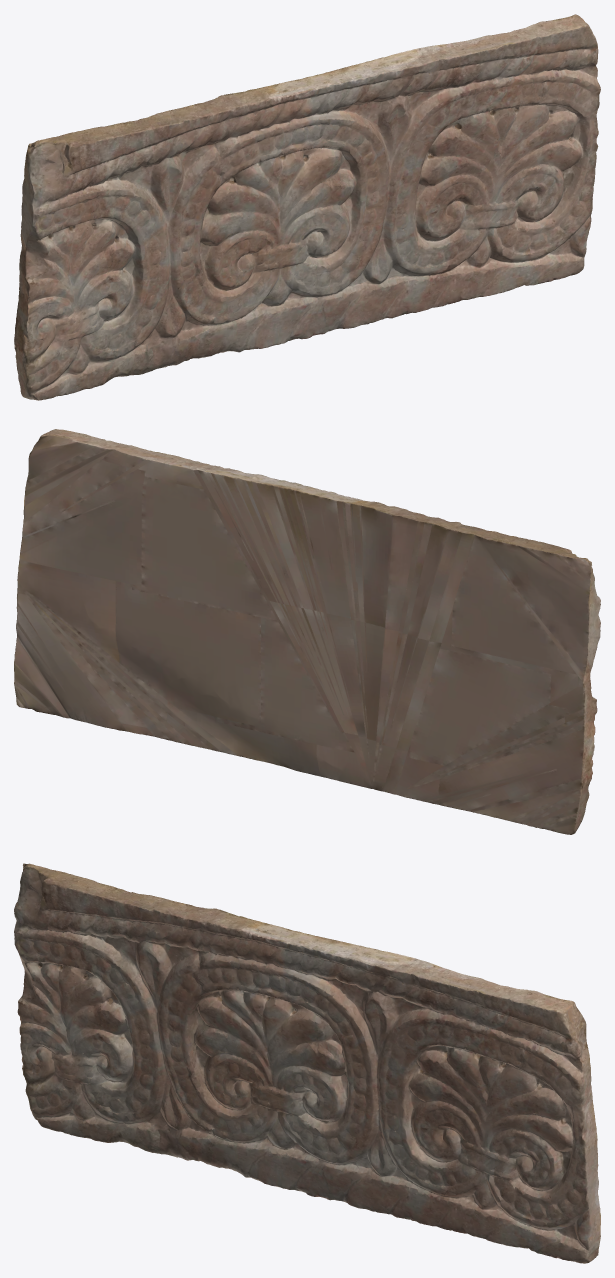
Rendered from preview.glb.
3 views of the same model, one above another, from view 1: azimuth 30°, elevation 25°; view 2: azimuth 150°, elevation 25°; view 3: azimuth 330°, elevation 25° (orthographic).
Parts seen in each view (by area): view 1: ADVIMG_25_120_979_Voussoir_MASTER_n3d; view 2: ADVIMG_25_120_979_Voussoir_MASTER_n3d; view 3: ADVIMG_25_120_979_Voussoir_MASTER_n3d.
Boxes of the visible parts, x1=… form: ADVIMG_25_120_979_Voussoir_MASTER_n3d: x1=14, y1=14, x2=600, y2=400; ADVIMG_25_120_979_Voussoir_MASTER_n3d: x1=14, y1=429, x2=600, y2=834; ADVIMG_25_120_979_Voussoir_MASTER_n3d: x1=14, y1=863, x2=600, y2=1263.
Bounding box in the file's own units: 0.4515 × 0.2059 × 0.0404.
1 material, 1 textured.
